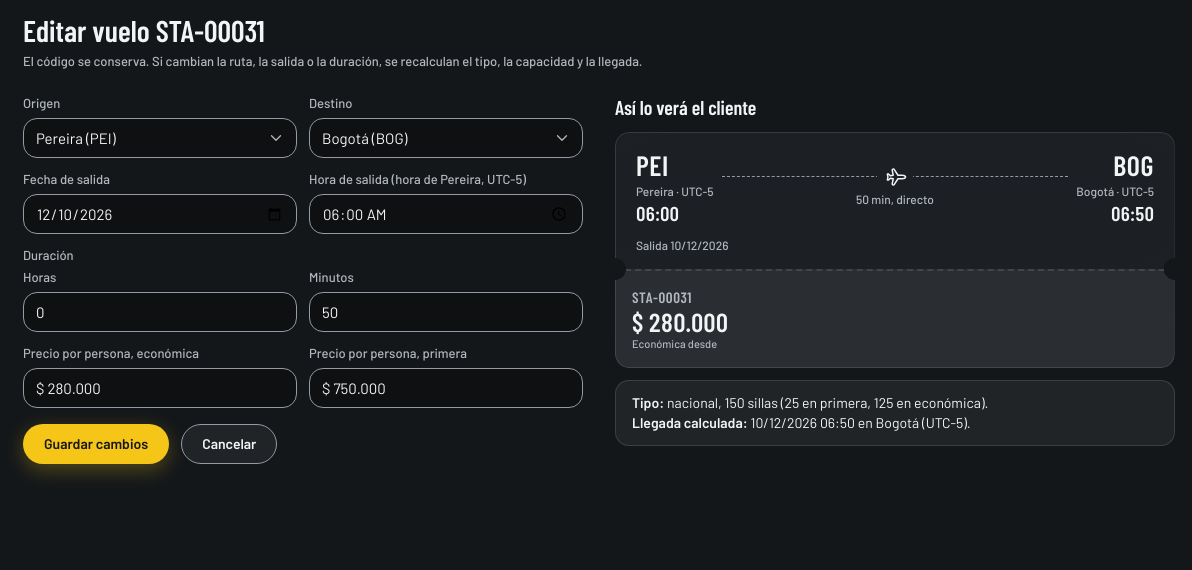
Test: S09 · Editar vuelo (HU-15) › si mientras tanto el vuelo vendió algo, el servidor lo rechaza y se explica
Expected: the heading "Editar vuelo STA-00031" is shown, [23,12,265,48]
Step 1. Replace the text in the field labelled "Precio por persona, económica" with "300000" → (160, 388), box [23,368,297,408]
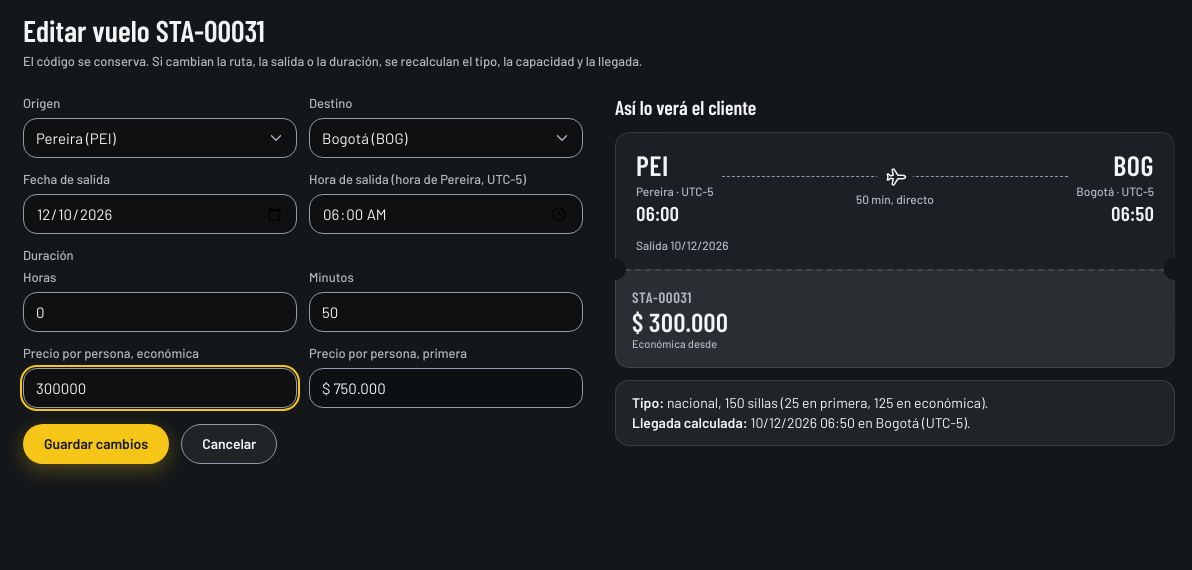
Step 2. Click the button "Guardar cambios" → (96, 444), box [23,424,169,464]
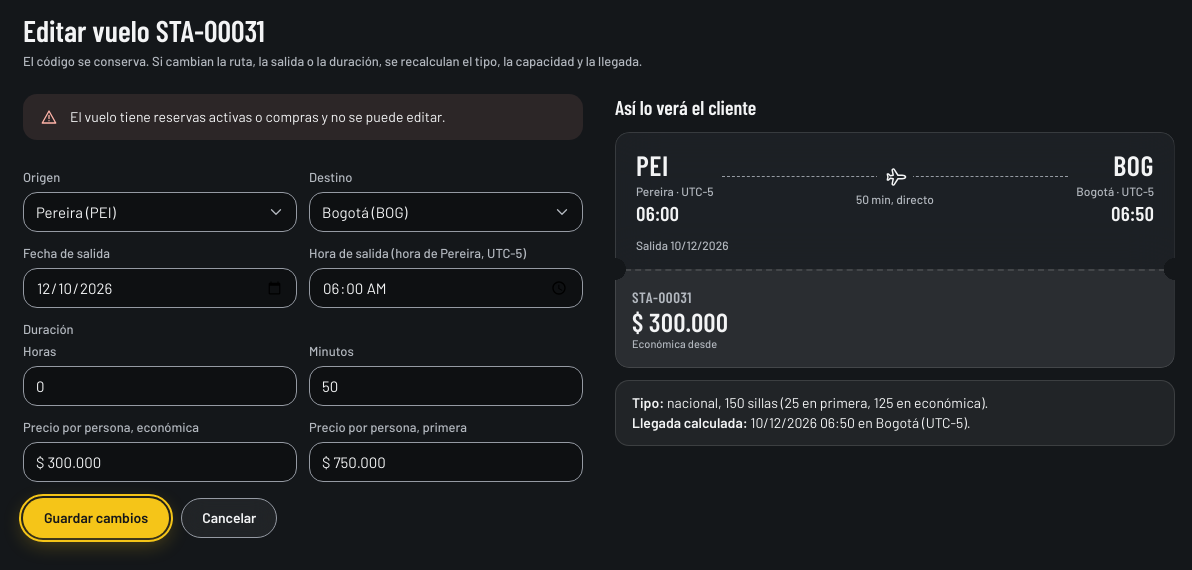
Expected: the text "no se puede editar" is shown, [70,108,446,125]
